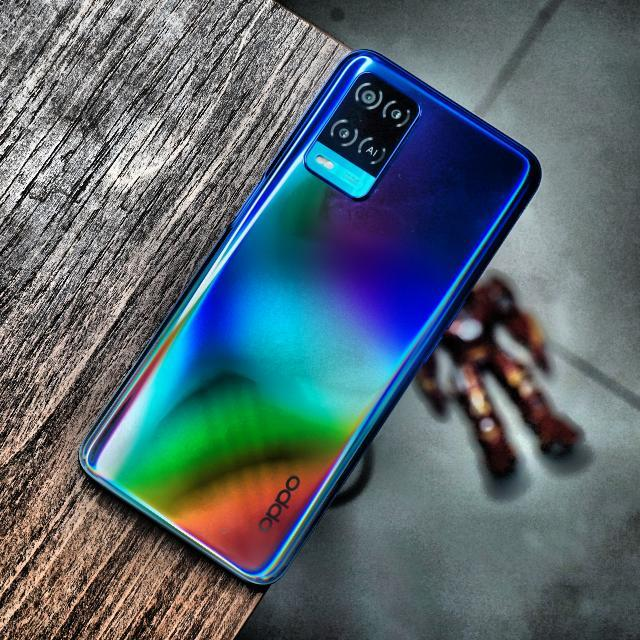Phone: (76, 39, 546, 595)
